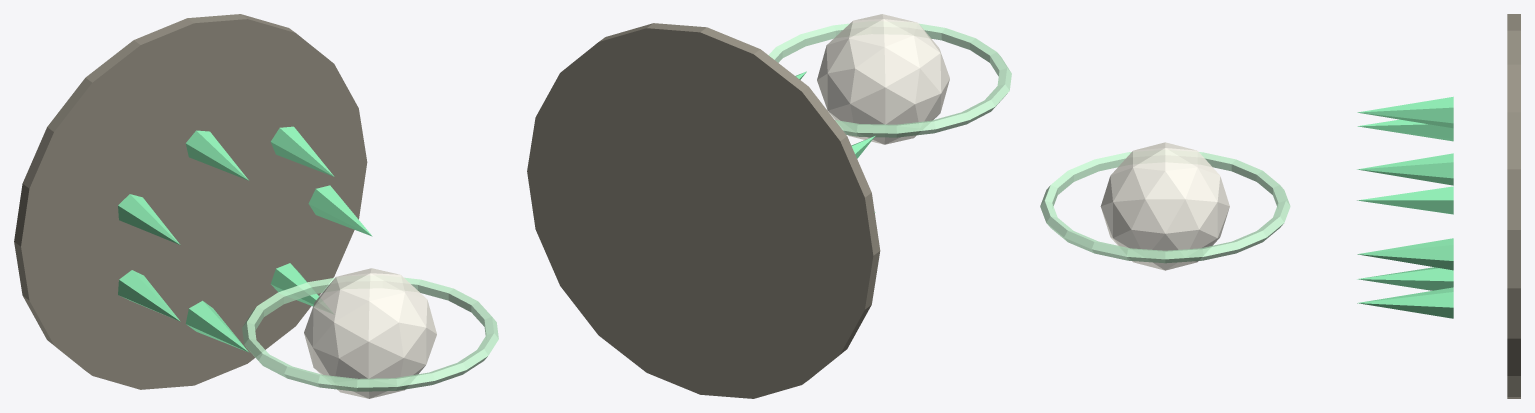
The model's file is 06_weather_terrain_nature_module.glb.
3 renders of one model, left to right at view 1: azimuth 30°, elevation 25°; view 2: azimuth 150°, elevation 25°; view 3: azimuth 270°, elevation 25°, orthographic. The views are drawn at different scales.
Visible parts, largest first — view 1: terrain_patch, sun_color_preview, weather_halo, nature_or_weather_element_2, nature_or_weather_element_1, nature_or_weather_element_0, nature_or_weather_element_3, nature_or_weather_element_5, nature_or_weather_element_4, nature_or_weather_element_6; view 2: terrain_patch, sun_color_preview, weather_halo; view 3: sun_color_preview, weather_halo, terrain_patch, nature_or_weather_element_0, nature_or_weather_element_1, nature_or_weather_element_2, nature_or_weather_element_6, nature_or_weather_element_4, nature_or_weather_element_5, nature_or_weather_element_3.
Boxes of the visible parts, x1,y1,x2,y2 form: terrain_patch: (14, 14, 367, 389); sun_color_preview: (304, 268, 436, 398); weather_halo: (242, 277, 498, 391); nature_or_weather_element_2: (185, 130, 248, 180); nature_or_weather_element_1: (271, 126, 334, 176); nature_or_weather_element_0: (308, 185, 372, 236); nature_or_weather_element_3: (118, 194, 180, 244); nature_or_weather_element_5: (185, 300, 248, 352); nature_or_weather_element_4: (118, 270, 180, 321); nature_or_weather_element_6: (271, 263, 319, 306); terrain_patch: (527, 23, 880, 398); sun_color_preview: (817, 14, 949, 144); weather_halo: (768, 23, 1011, 137); sun_color_preview: (1100, 142, 1229, 270); weather_halo: (1040, 152, 1290, 263); terrain_patch: (1507, 14, 1520, 398); nature_or_weather_element_0: (1357, 238, 1453, 270); nature_or_weather_element_1: (1357, 153, 1453, 185); nature_or_weather_element_2: (1357, 96, 1453, 128); nature_or_weather_element_6: (1357, 287, 1453, 318); nature_or_weather_element_4: (1357, 186, 1453, 214); nature_or_weather_element_5: (1357, 267, 1453, 290); nature_or_weather_element_3: (1357, 119, 1453, 141).
Size of the model in its own units: 1.44 by 1.44 by 1.78.
